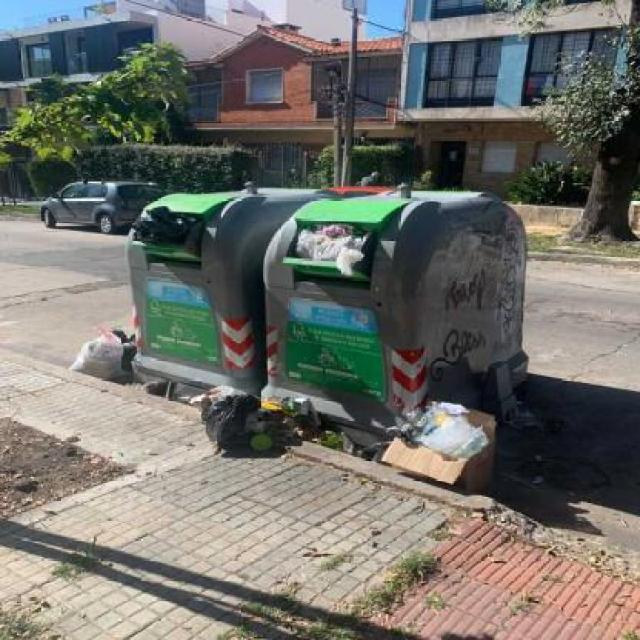garbage: (191, 375, 382, 458), (382, 394, 511, 495), (82, 320, 143, 402), (291, 223, 386, 268), (134, 207, 212, 256)
